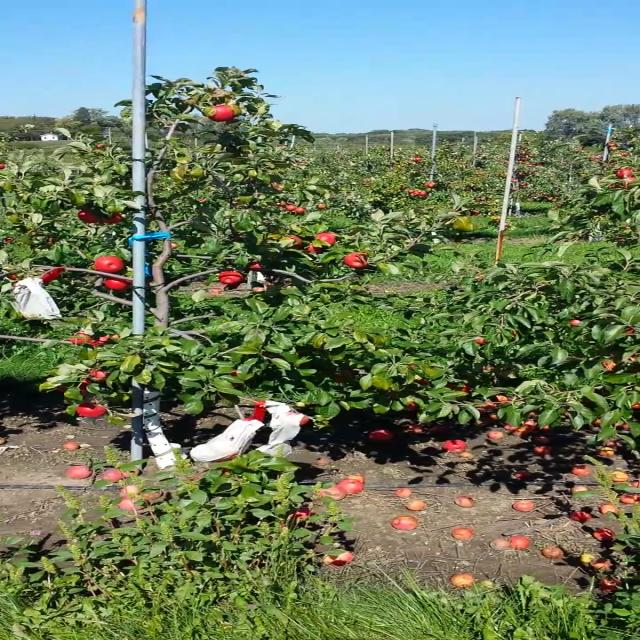apple: (58, 379, 94, 394), (76, 402, 108, 418), (204, 104, 234, 120), (341, 252, 371, 268), (94, 256, 123, 272), (42, 268, 63, 286), (104, 277, 131, 291), (218, 271, 244, 285), (68, 332, 94, 344), (76, 208, 98, 222), (596, 360, 620, 372), (444, 382, 470, 393), (100, 212, 122, 224), (315, 232, 337, 244), (87, 336, 111, 346), (284, 235, 302, 247), (87, 370, 108, 380), (305, 243, 323, 253), (616, 168, 633, 178), (298, 414, 312, 426), (403, 400, 418, 410), (625, 353, 638, 363), (494, 394, 512, 401), (620, 177, 638, 183), (408, 189, 426, 195), (569, 319, 581, 327), (607, 141, 617, 149), (629, 400, 639, 408), (109, 333, 120, 340), (250, 263, 262, 269), (417, 378, 428, 384), (423, 181, 435, 186), (7, 273, 16, 279), (473, 338, 482, 344), (516, 157, 524, 163), (518, 182, 526, 188), (624, 327, 633, 332), (230, 369, 237, 375), (620, 152, 628, 156), (520, 150, 527, 154), (415, 156, 421, 160), (518, 172, 524, 176), (511, 178, 517, 182), (541, 191, 547, 195), (546, 196, 552, 200)
